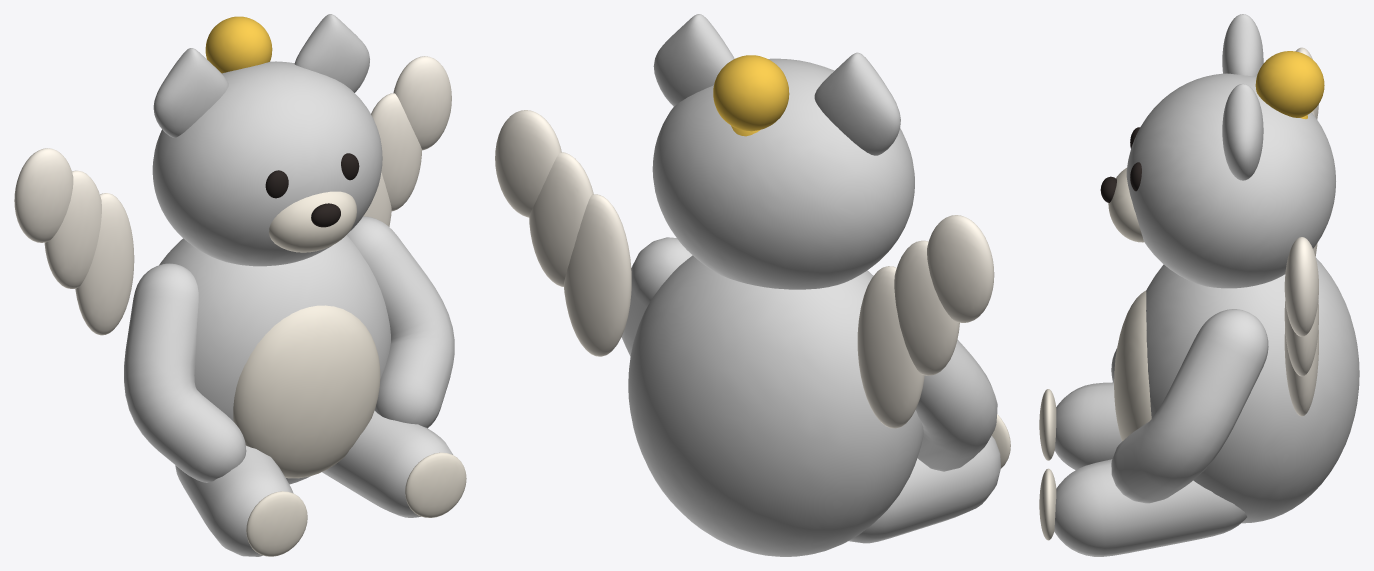
The model's file is deco_pegaso.glb.
The picture shows the model from 3 angles, left to right: view 1: azimuth 30°, elevation 25°; view 2: azimuth 150°, elevation 25°; view 3: azimuth 270°, elevation 25°; orthographic projection. The views are drawn at different scales.
Visible parts, largest first — view 1: cabeza pegaso.001, barriga pegaso.001, panza pegaso.001, brazo.018, brazo.019, pierna.019, pierna.018, pluma ala -10.001, pluma ala -12.001, pluma ala -11.001, oreja gato.004, pluma ala 12.001 (+8 smaller); view 2: panza pegaso.001, cabeza pegaso.001, pluma ala 10.001, brazo.018, pluma ala -10.001, pierna.018, pluma ala -12.001, oreja gato.004, pluma ala -11.001, pluma ala 11.001, pluma ala 12.001, crin dorada 0.001 (+2 smaller); view 3: cabeza pegaso.001, panza pegaso.001, brazo.019, pierna.019, pierna.018, barriga pegaso.001, crin dorada 0.001, oreja gato.005, pluma ala 12.001, oreja gato.004, hocico.009, pluma ala 10.001 (+3 smaller).
Boxes of the visible parts, <box> form: cabeza pegaso.001: <box>152,61,382,266</box>; barriga pegaso.001: <box>233,305,380,478</box>; panza pegaso.001: <box>159,235,390,484</box>; brazo.018: <box>124,263,246,482</box>; brazo.019: <box>347,216,454,428</box>; pierna.019: <box>322,410,452,517</box>; pierna.018: <box>175,445,293,556</box>; pluma ala -10.001: <box>75,193,134,335</box>; pluma ala -12.001: <box>14,148,73,242</box>; pluma ala -11.001: <box>44,170,101,288</box>; oreja gato.004: <box>153,48,228,137</box>; pluma ala 12.001: <box>393,56,451,150</box>; panza pegaso.001: <box>628,255,923,556</box>; cabeza pegaso.001: <box>652,58,914,289</box>; pluma ala 10.001: <box>564,194,631,356</box>; brazo.018: <box>916,339,997,471</box>; pluma ala -10.001: <box>857,266,924,428</box>; pierna.018: <box>848,435,1001,543</box>; pluma ala -12.001: <box>927,215,994,322</box>; oreja gato.004: <box>814,52,900,155</box>; pluma ala -11.001: <box>894,240,959,375</box>; pluma ala 11.001: <box>529,152,593,286</box>; pluma ala 12.001: <box>495,110,561,217</box>; crin dorada 0.001: <box>713,55,789,131</box>; cabeza pegaso.001: <box>1126,73,1335,288</box>; panza pegaso.001: <box>1146,258,1359,523</box>; brazo.019: <box>1111,309,1268,503</box>; pierna.019: <box>1054,459,1246,556</box>; pierna.018: <box>1054,382,1121,470</box>; barriga pegaso.001: <box>1114,290,1151,441</box>; crin dorada 0.001: <box>1255,51,1324,117</box>; oreja gato.005: <box>1222,84,1263,180</box>; pluma ala 12.001: <box>1284,237,1318,336</box>; oreja gato.004: <box>1222,14,1263,76</box>; hocico.009: <box>1108,168,1144,242</box>; pluma ala 10.001: <box>1284,328,1318,416</box>.
Size of the model in its own units: 0.4384 by 0.4338 by 0.2716.
